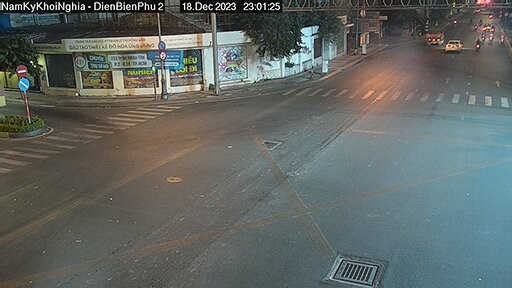car: (444, 39, 463, 53)
motorbike: (470, 39, 483, 52)
truck: (419, 24, 446, 46)
